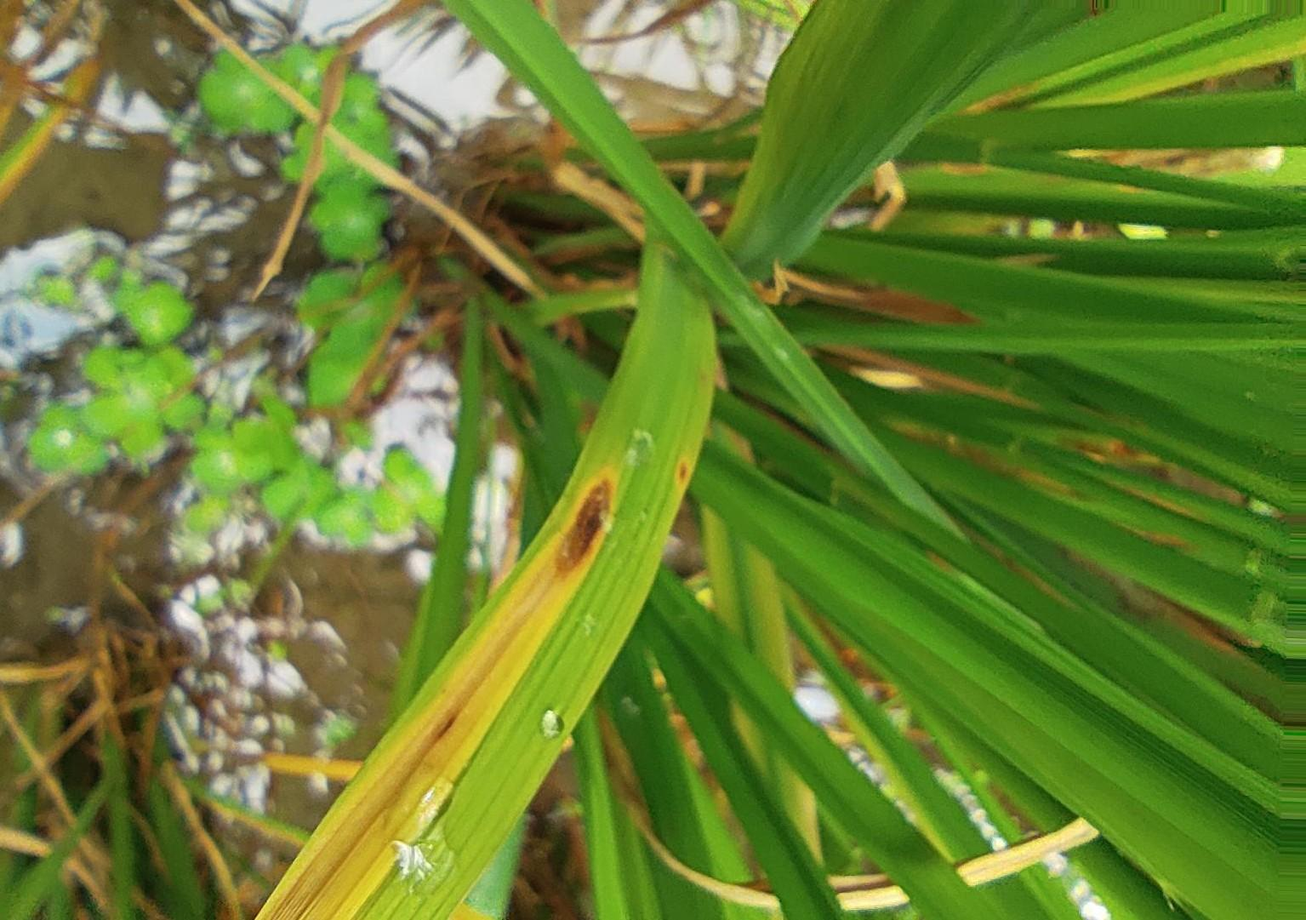LEAF: (256, 231, 715, 919)
NBS: (432, 712, 461, 739), (678, 460, 688, 483)
